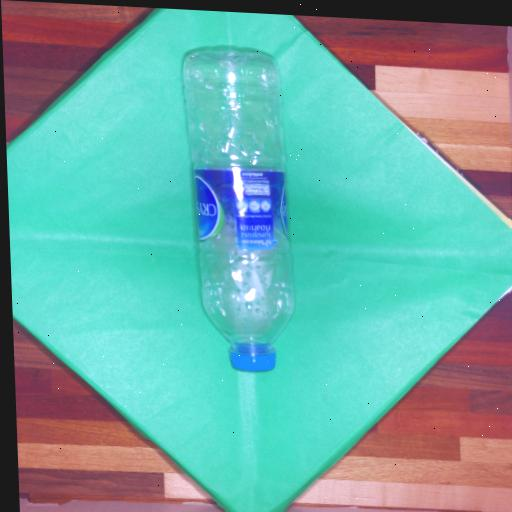bottle: (174, 37, 306, 398)
